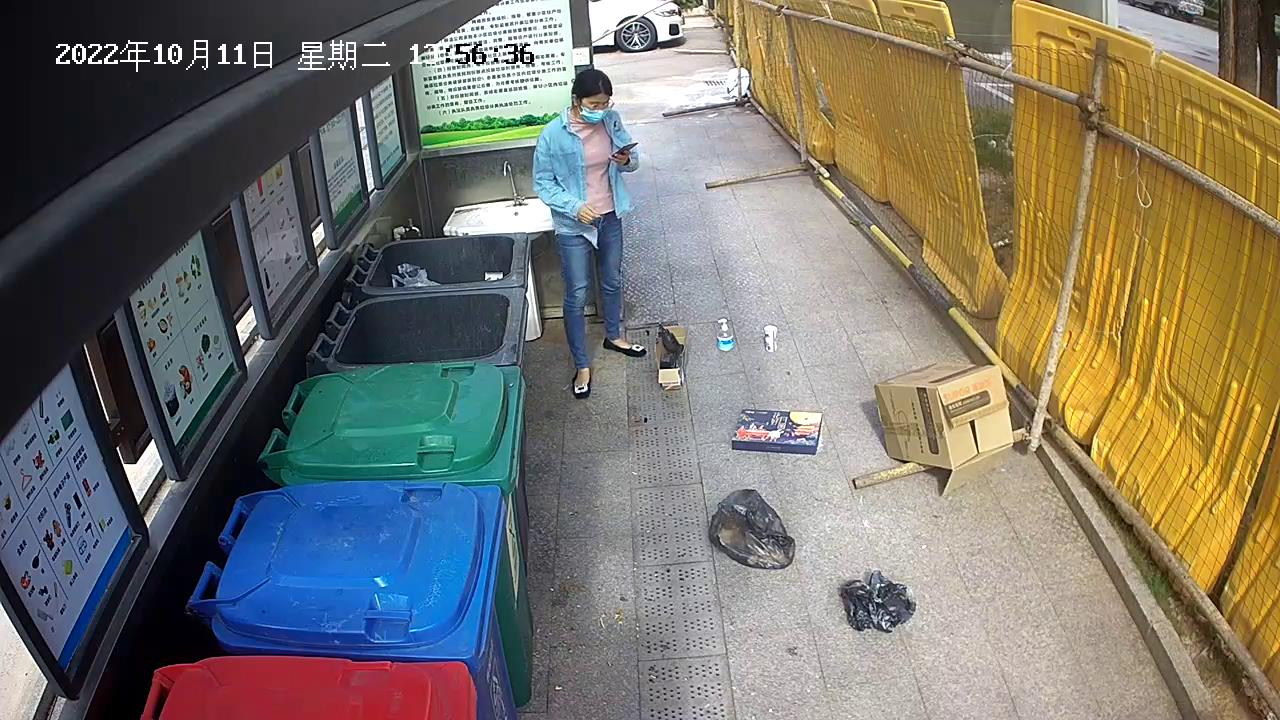garbage: (703, 484, 799, 573), (836, 566, 923, 639)
lvzhipin: (760, 319, 782, 356)
suliaozhipin: (709, 315, 736, 353)
worker: (527, 66, 650, 404)
zhizhipin: (870, 356, 1021, 501), (730, 405, 827, 460)
